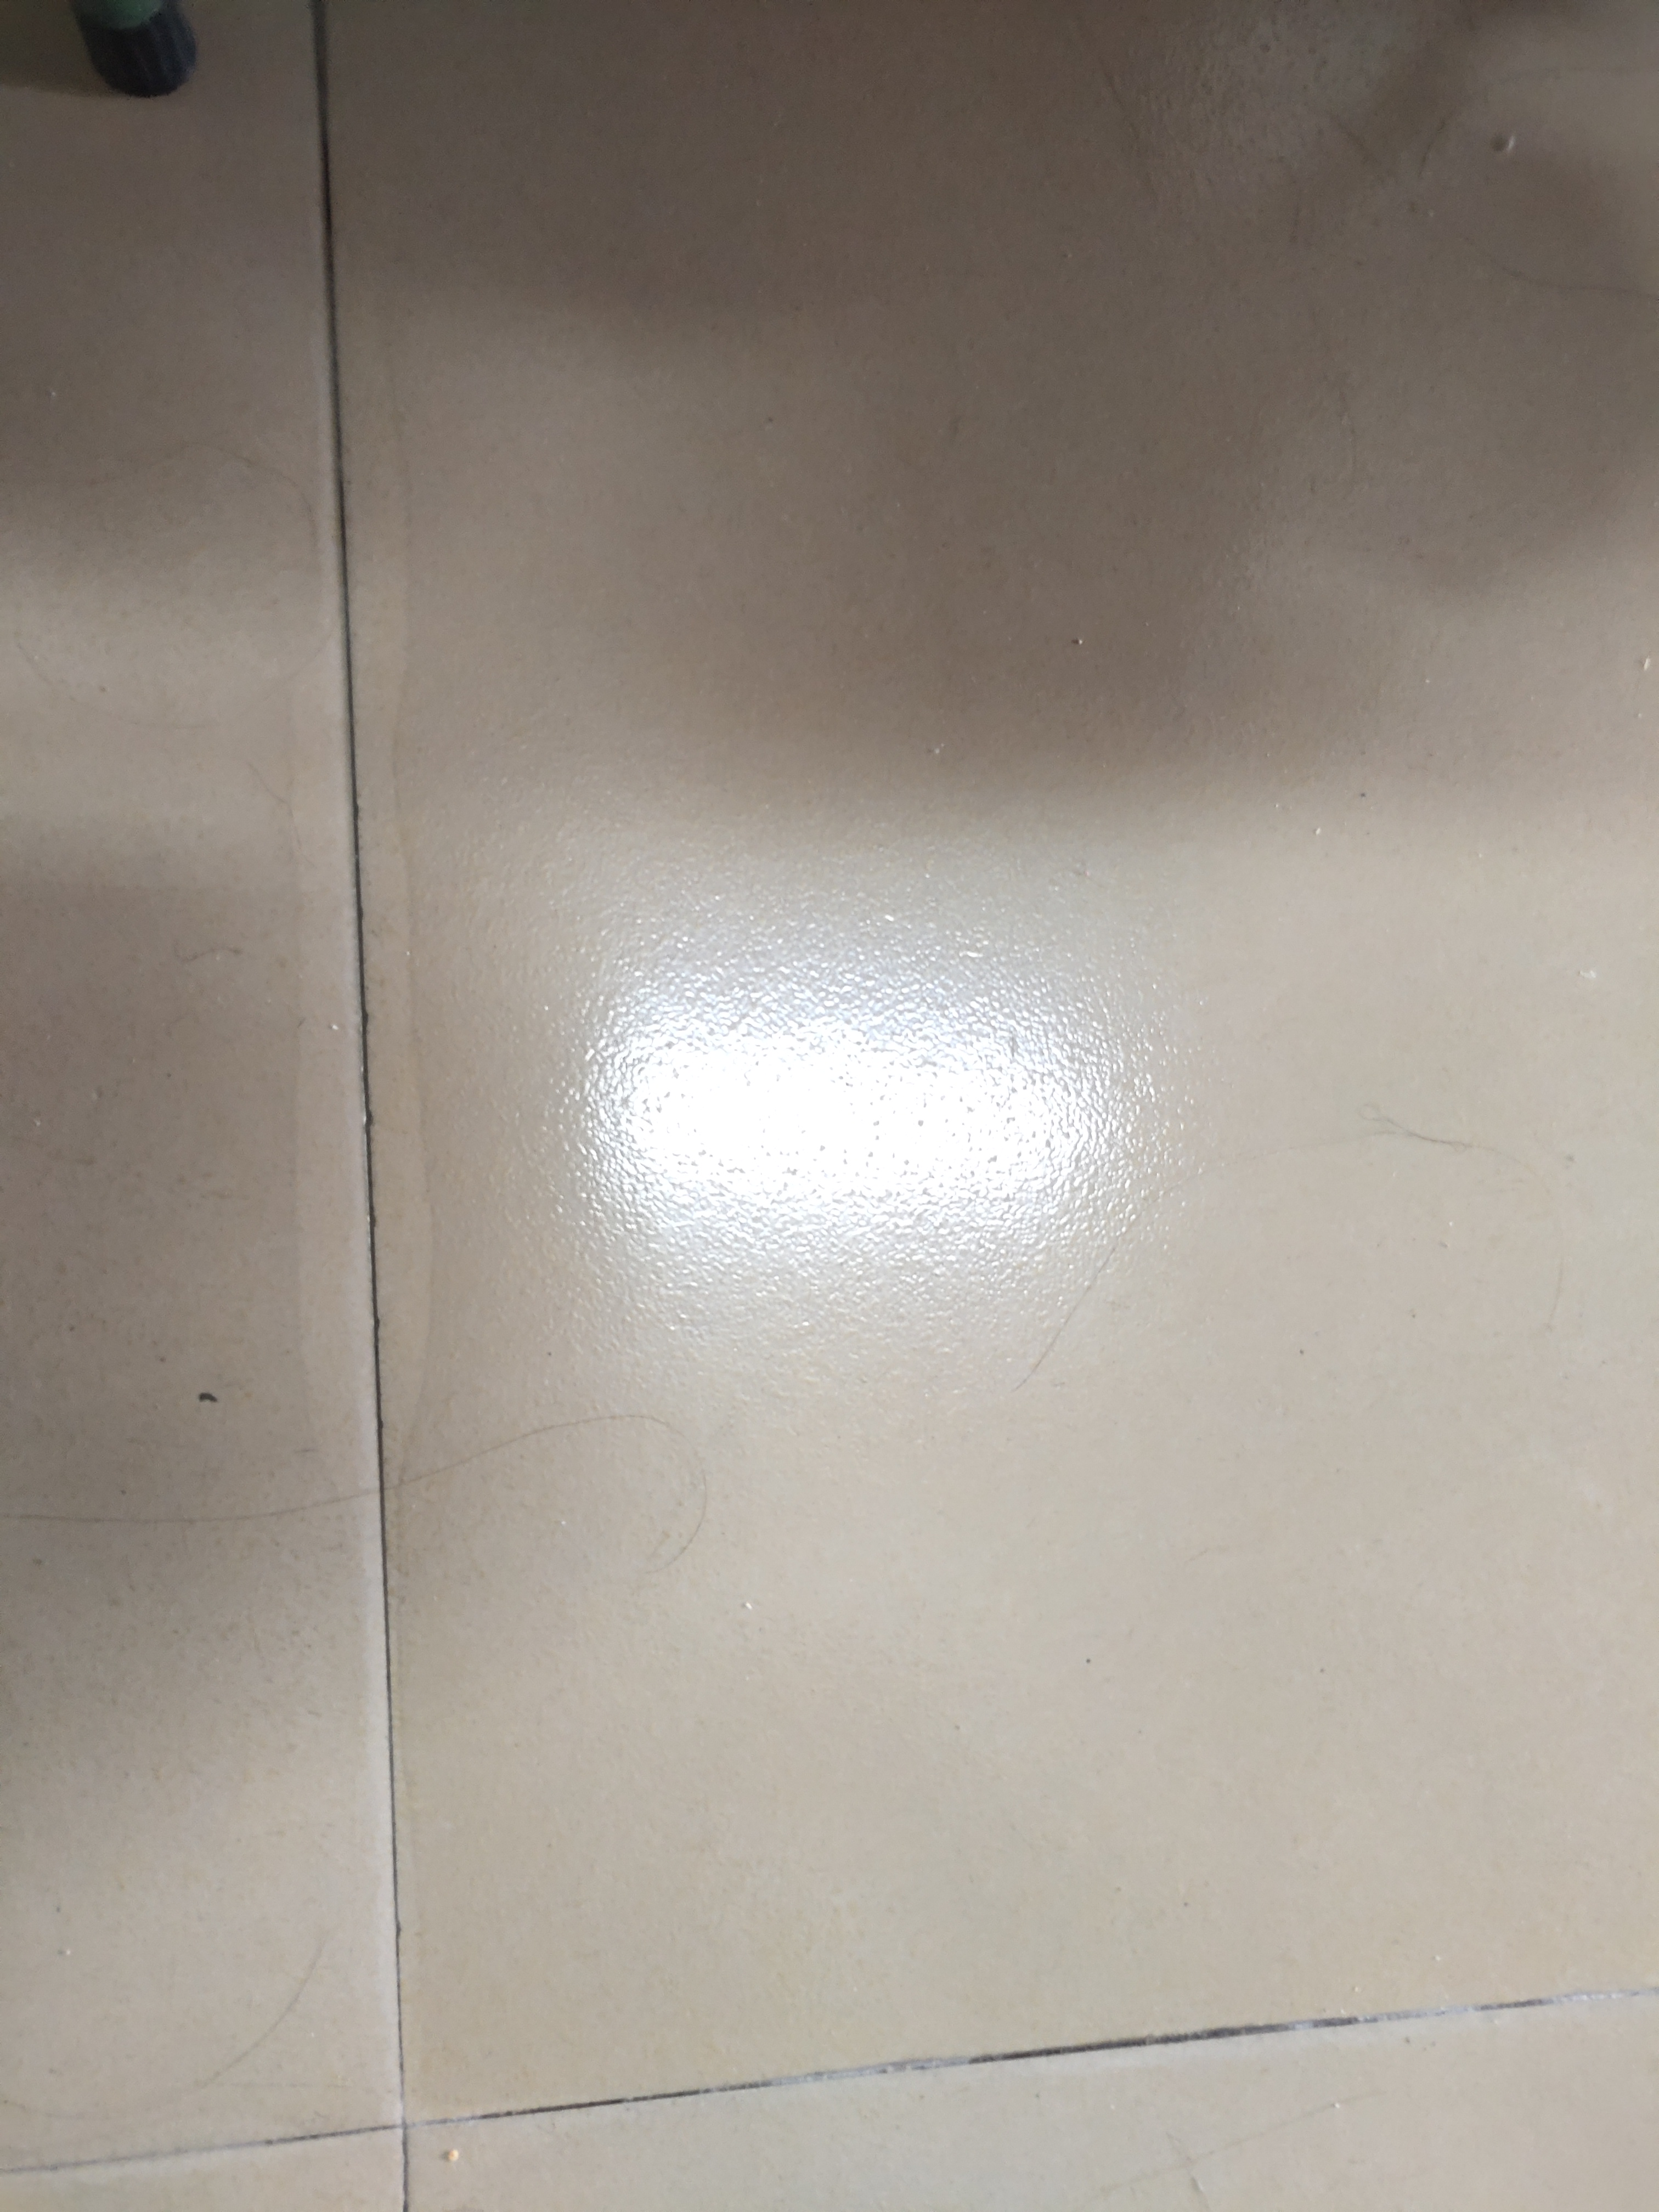reflection: (586, 972, 1140, 1266)
